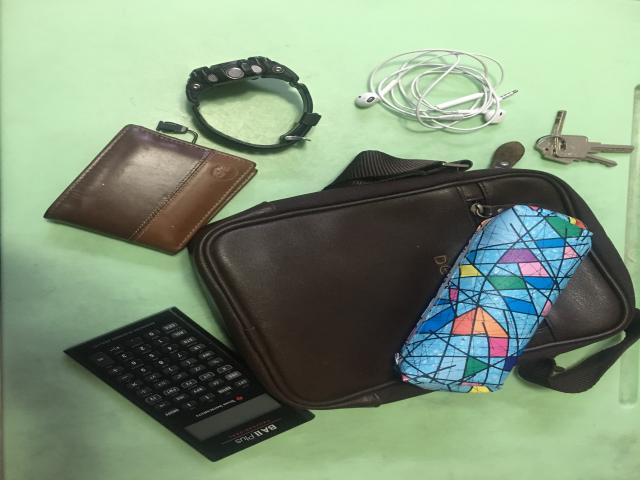Keys: (535, 111, 635, 167)
Wallet: (45, 125, 257, 254)
Watch: (187, 56, 320, 149)
wire: (355, 49, 517, 130)
